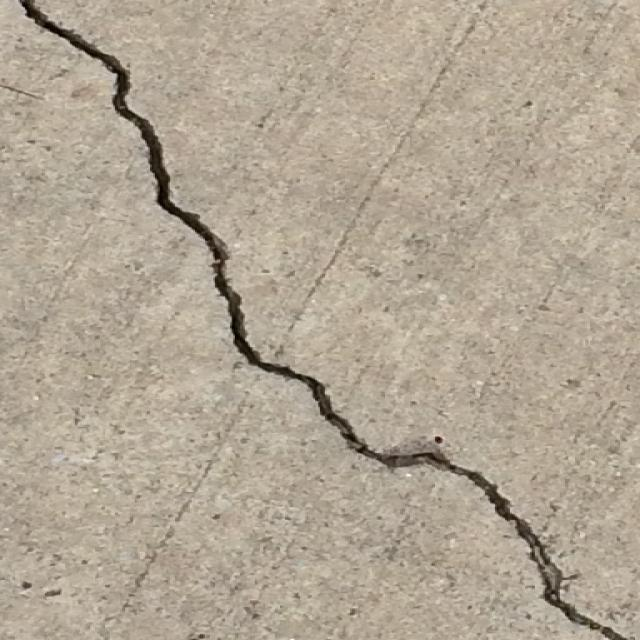Diagonal: (2, 0, 634, 640)
